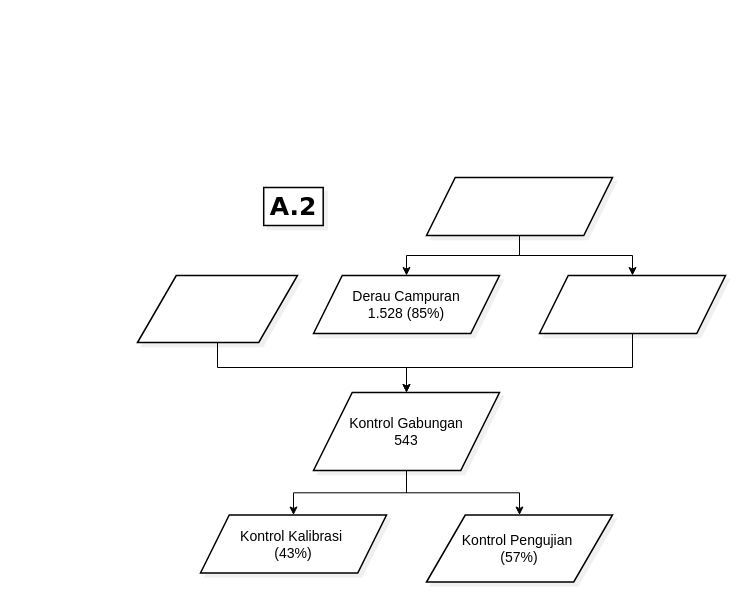
Image size: 747x604. Some labels were removed from this diagram. The shapes that lost their labels are listed below. From the top down, each one's centre as x and y in pixels, then its label:
At point (521, 208): "Derau Itera 1.799".
At point (219, 310): "Burung Nontarget 272".
At point (634, 306): "Kontrol Derau 271 (15%)".
